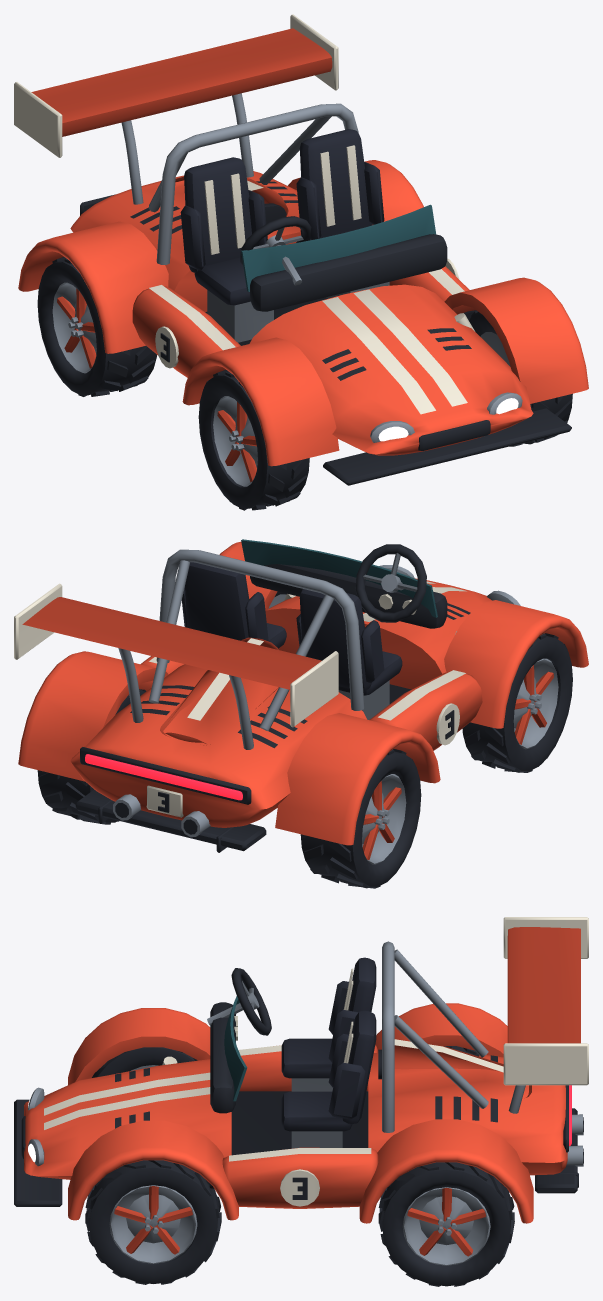
The model's file is car-sport.glb.
3 renders of one model, top to bottom at view 1: azimuth 30°, elevation 25°; view 2: azimuth 150°, elevation 25°; view 3: azimuth 270°, elevation 25°, orthographic. The views are drawn at different scales.
Visible parts, largest first — view 1: Rally Sport Sport coral, Rally Sport Trail rubber, Rally Sport Seat fabric, Rally Sport Rally ivory, Rally Sport Gunmetal, Tire tread.001, Tire tread, Rally Sport Smoked teal, Rim, Rim.001, Tire tread.002, Rim spokes (+1 smaller); view 2: Rally Sport Sport coral, Rally Sport Trail rubber, Rally Sport Gunmetal, Rally Sport Seat fabric, Rally Sport Rally ivory, Tire tread.001, Tire tread, Rally Sport Smoked teal, Tire tread.003, Rim, Rim.001, Rally Sport Tail lamp ruby (+2 smaller); view 3: Rally Sport Sport coral, Rally Sport Trail rubber, Rally Sport Rally ivory, Rally Sport Seat fabric, Rally Sport Gunmetal, Tire tread.003, Tire tread.002, Rim.002, Rim.003, Rim spokes.002, Rim spokes.003, Tire tread (+1 smaller).
Part boxes in pixels (bbox=[...]): Rally Sport Sport coral: bbox=[18, 28, 588, 466]; Rally Sport Trail rubber: bbox=[80, 181, 571, 485]; Rally Sport Seat fabric: bbox=[180, 129, 384, 305]; Rally Sport Rally ivory: bbox=[14, 14, 475, 414]; Rally Sport Gunmetal: bbox=[121, 93, 522, 442]; Tire tread.001: bbox=[37, 257, 156, 396]; Tire tread: bbox=[198, 370, 309, 510]; Rally Sport Smoked teal: bbox=[241, 204, 436, 291]; Rim: bbox=[213, 396, 257, 486]; Rim.001: bbox=[52, 282, 96, 373]; Tire tread.002: bbox=[469, 311, 572, 446]; Rim spokes: bbox=[217, 402, 256, 482]; Rally Sport Sport coral: bbox=[18, 541, 588, 845]; Rally Sport Trail rubber: bbox=[75, 544, 470, 852]; Rally Sport Gunmetal: bbox=[113, 549, 520, 837]; Rally Sport Seat fabric: bbox=[181, 562, 402, 695]; Rally Sport Rally ivory: bbox=[14, 581, 466, 817]; Tire tread.001: bbox=[300, 749, 421, 888]; Tire tread: bbox=[462, 633, 572, 772]; Rally Sport Smoked teal: bbox=[241, 539, 437, 617]; Tire tread.003: bbox=[37, 689, 146, 824]; Rim: bbox=[513, 658, 558, 749]; Rim.001: bbox=[362, 774, 406, 864]; Rally Sport Tail lamp ruby: bbox=[85, 754, 242, 800]; Rally Sport Sport coral: bbox=[24, 927, 580, 1223]; Rally Sport Trail rubber: bbox=[14, 968, 583, 1206]; Rally Sport Rally ivory: bbox=[44, 917, 588, 1206]; Rally Sport Seat fabric: bbox=[281, 957, 376, 1131]; Rally Sport Gunmetal: bbox=[28, 941, 583, 1166]; Tire tread.003: bbox=[378, 1162, 514, 1286]; Tire tread.002: bbox=[85, 1160, 221, 1284]; Rim.002: bbox=[109, 1185, 197, 1263]; Rim.003: bbox=[402, 1187, 490, 1265]; Rim spokes.002: bbox=[114, 1186, 192, 1254]; Rim spokes.003: bbox=[407, 1187, 485, 1256]; Tire tread: bbox=[92, 1047, 197, 1077].
Bounding box in the file's own units: 2.54 × 1.88 × 4.04.
